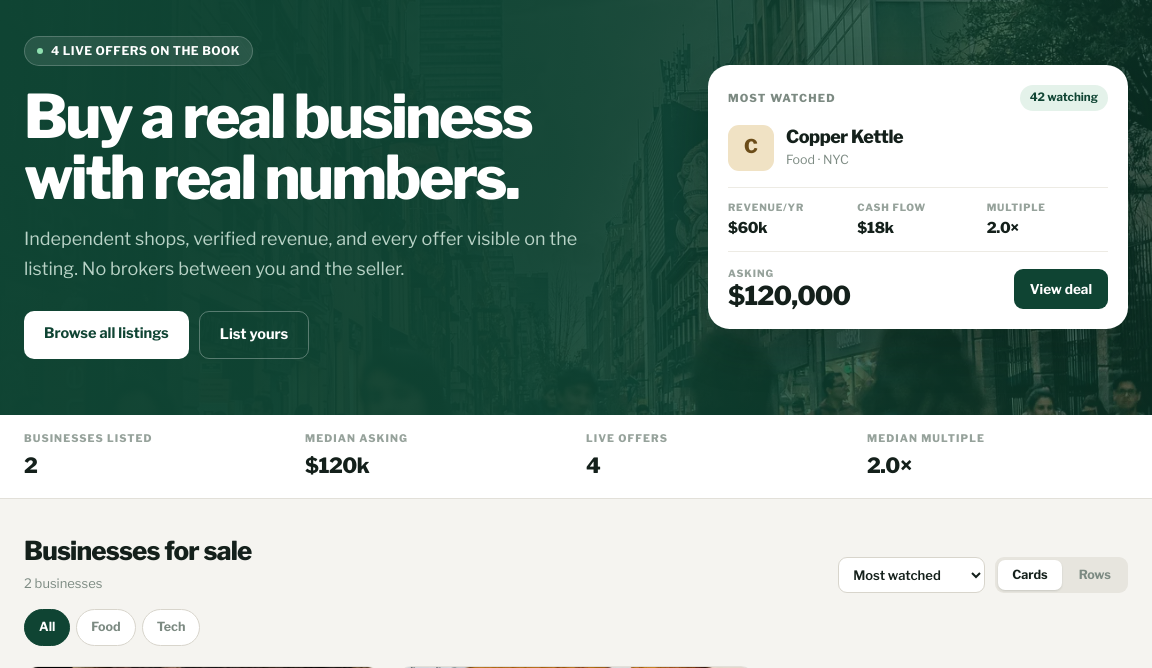
Home › filters by industry and reflects the count
Expected: the text "2 businesses" is shown, [24, 575, 102, 591]
Click the button "Tech".
click(171, 628)  # box [142, 609, 200, 646]
(page scrolled)
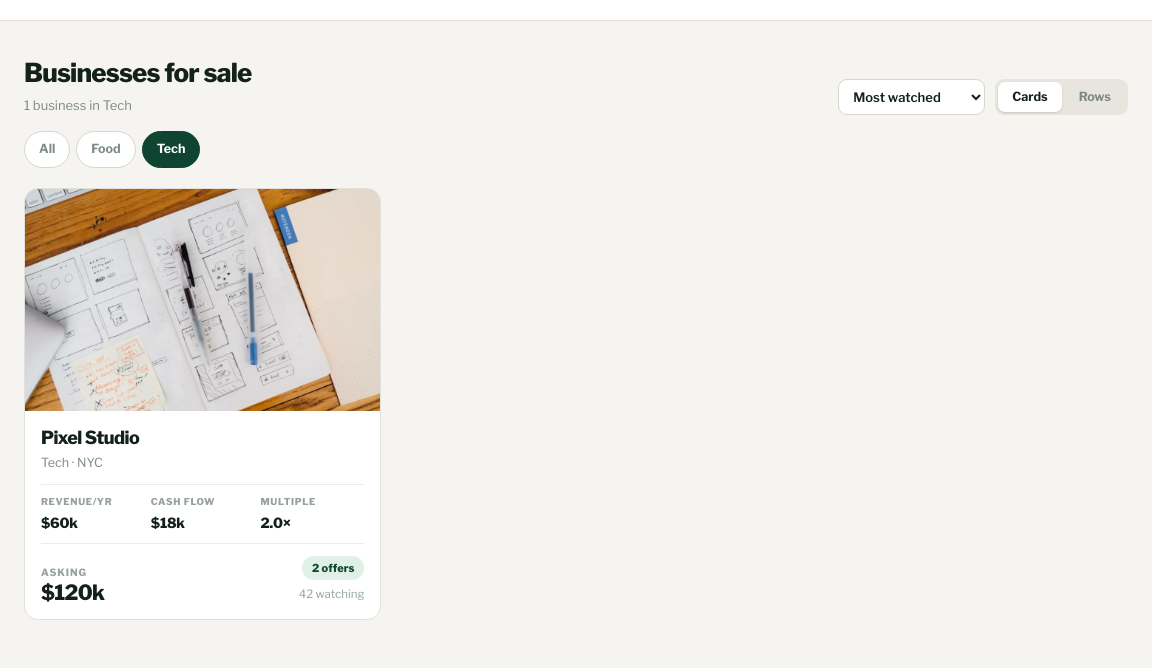
Expected: the text "Pixel Studio" is shown, [41, 427, 139, 448]
Result: the text "1 business in Tech" is shown at [24, 97, 132, 113]
